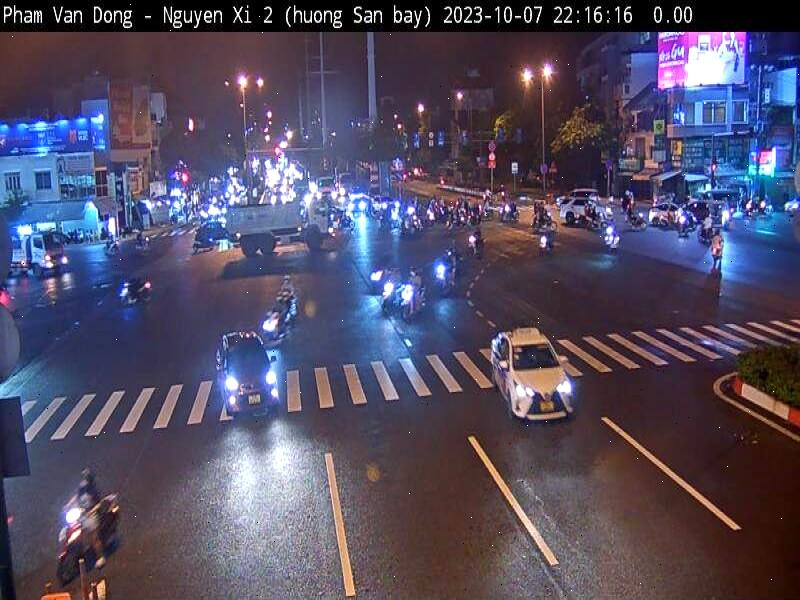car: (488, 326, 578, 422), (212, 326, 282, 421)
motorcycle: (48, 491, 125, 584), (262, 302, 303, 348)
truck: (223, 192, 334, 262)
